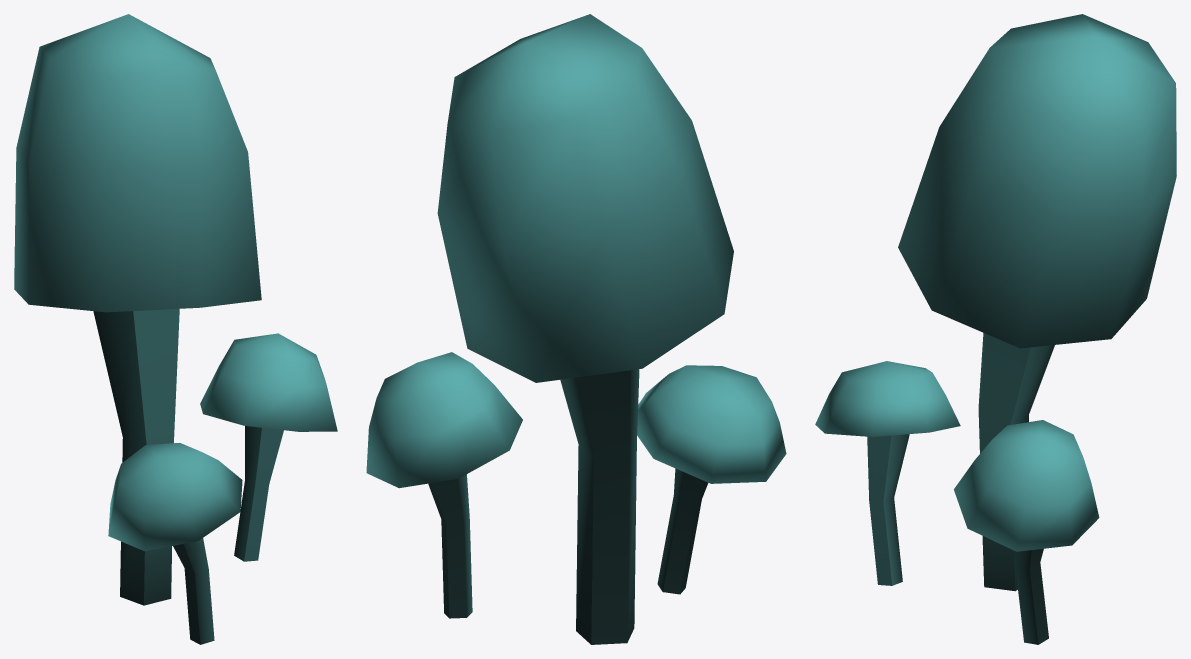
The model's file is Mushroom_blue.fbx.
3 renders of one model, left to right at view 1: azimuth 30°, elevation 25°; view 2: azimuth 150°, elevation 25°; view 3: azimuth 270°, elevation 25°, orthographic. The views are drawn at different scales.
Visible parts, largest first — view 1: Mushroom_blue; view 2: Mushroom_blue; view 3: Mushroom_blue.
Boxes of the visible parts, x1=… form: Mushroom_blue: x1=14, y1=14, x2=337, y2=644; Mushroom_blue: x1=366, y1=14, x2=786, y2=644; Mushroom_blue: x1=815, y1=14, x2=1176, y2=644.
Bounding box in the file's own units: 45.13 × 77.39 × 45.33.
